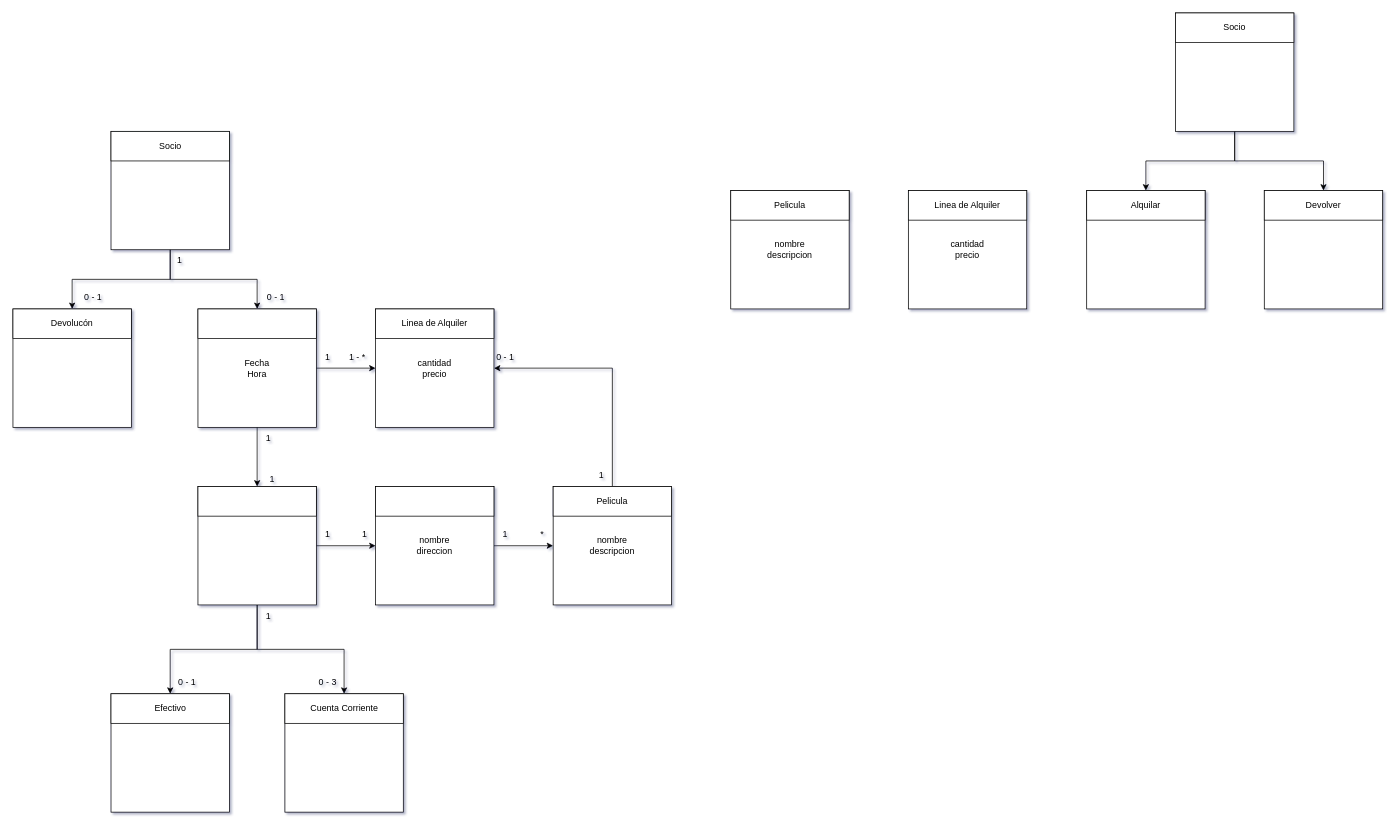
This 1400x830 diagram has some shape labels left out. The centre of each missing label's shape, as x and y in pixels:
Aquiler: (x=256, y=323)
Registro: (x=256, y=501)
Tienda: (x=434, y=501)
